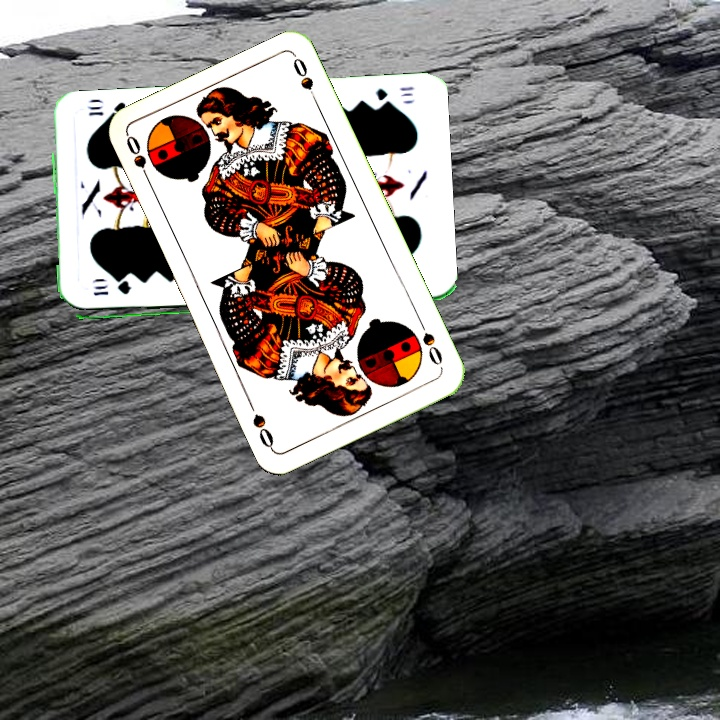G10: (371, 82, 416, 109), (89, 281, 134, 298)
SO: (122, 131, 155, 188), (414, 315, 445, 368)
